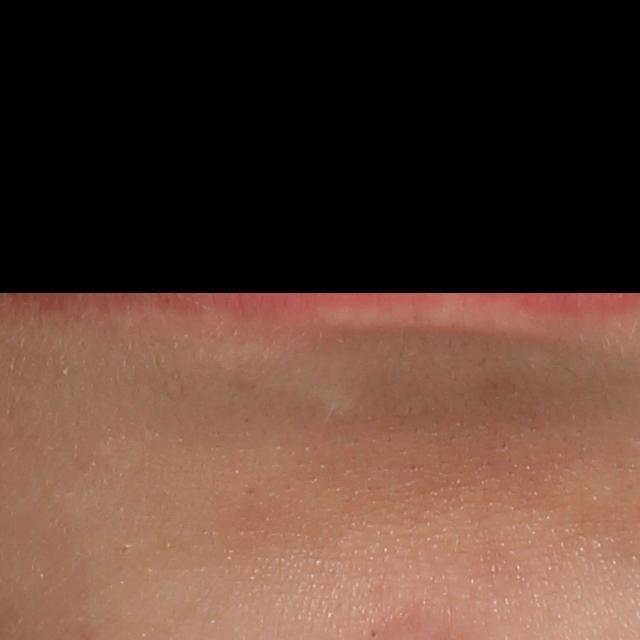hypertrophic_scar: (309, 385, 363, 415)
